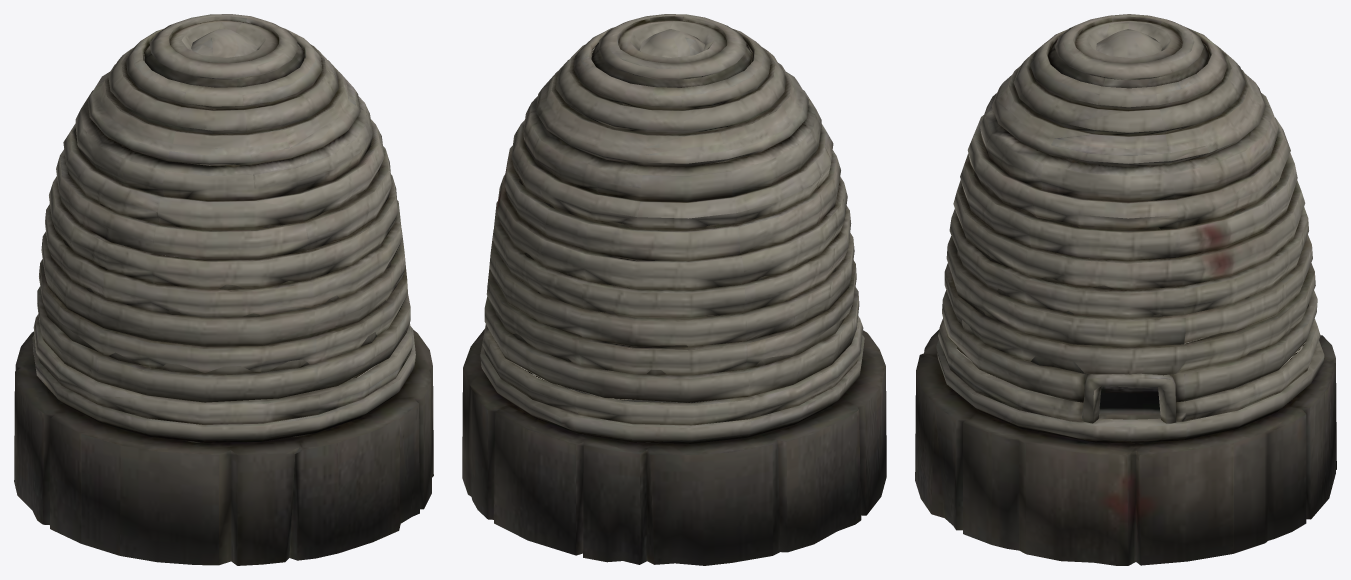
File: beehive.glb
3 views of the same model, side by side, from view 1: azimuth 30°, elevation 25°; view 2: azimuth 150°, elevation 25°; view 3: azimuth 270°, elevation 25° (orthographic).
Parts seen in each view (by area): view 1: model; view 2: model; view 3: model.
Boxes of the visible parts, x1=… form: model: x1=14, y1=14, x2=433, y2=565; model: x1=462, y1=14, x2=886, y2=565; model: x1=915, y1=14, x2=1336, y2=565.
Bounding box in the file's own units: 0.8669 × 1 × 0.863.
1 material, 1 textured.
